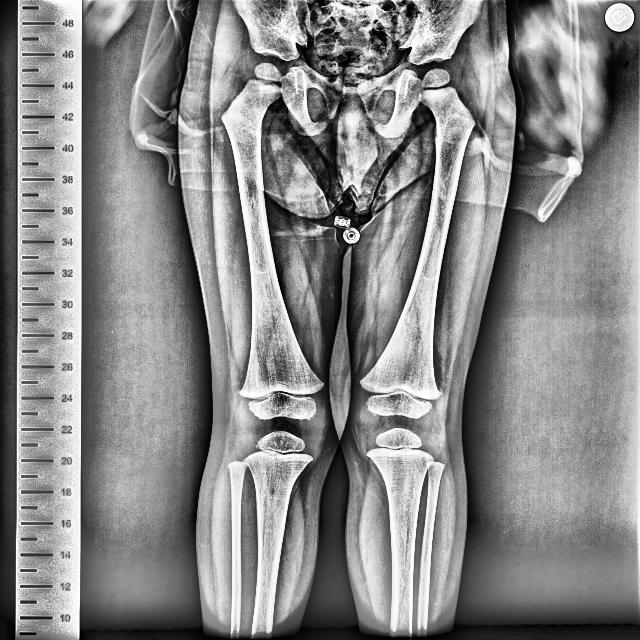Not_Fracture: (169, 250, 503, 640)
